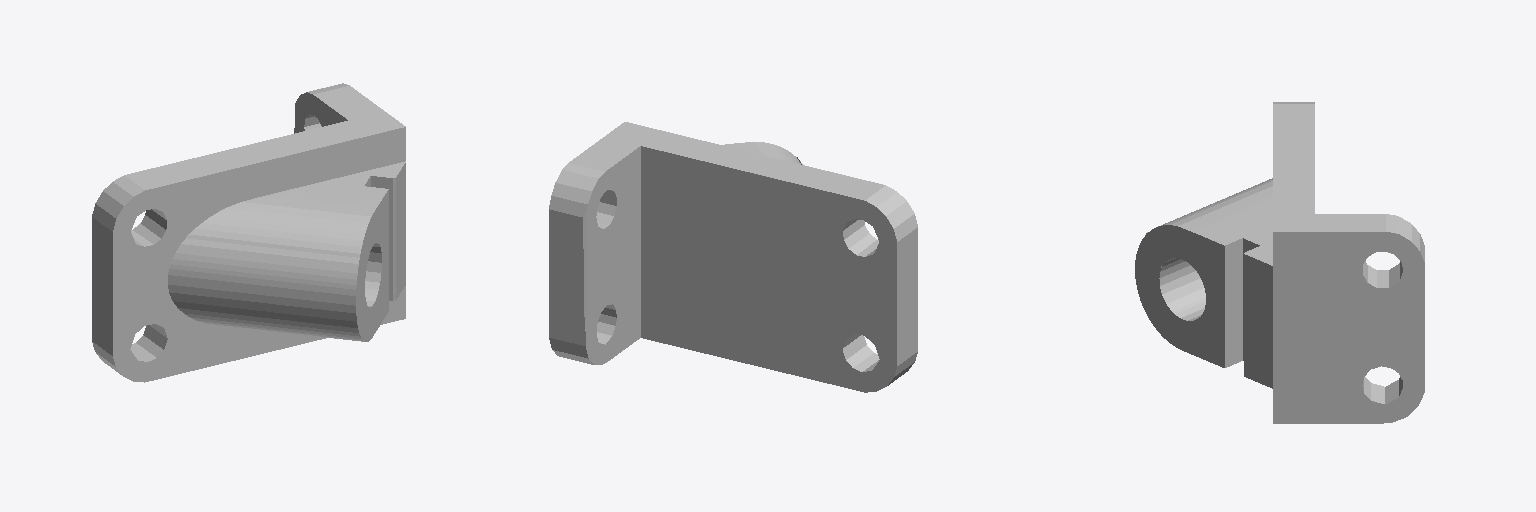
File: triangle_mesh.obj
3 views of the same model, side by side, from view 1: azimuth 30°, elevation 25°; view 2: azimuth 150°, elevation 25°; view 3: azimuth 270°, elevation 25° (orthographic).
Size of the model in its own units: 74.98 by 46.9 by 64.21.